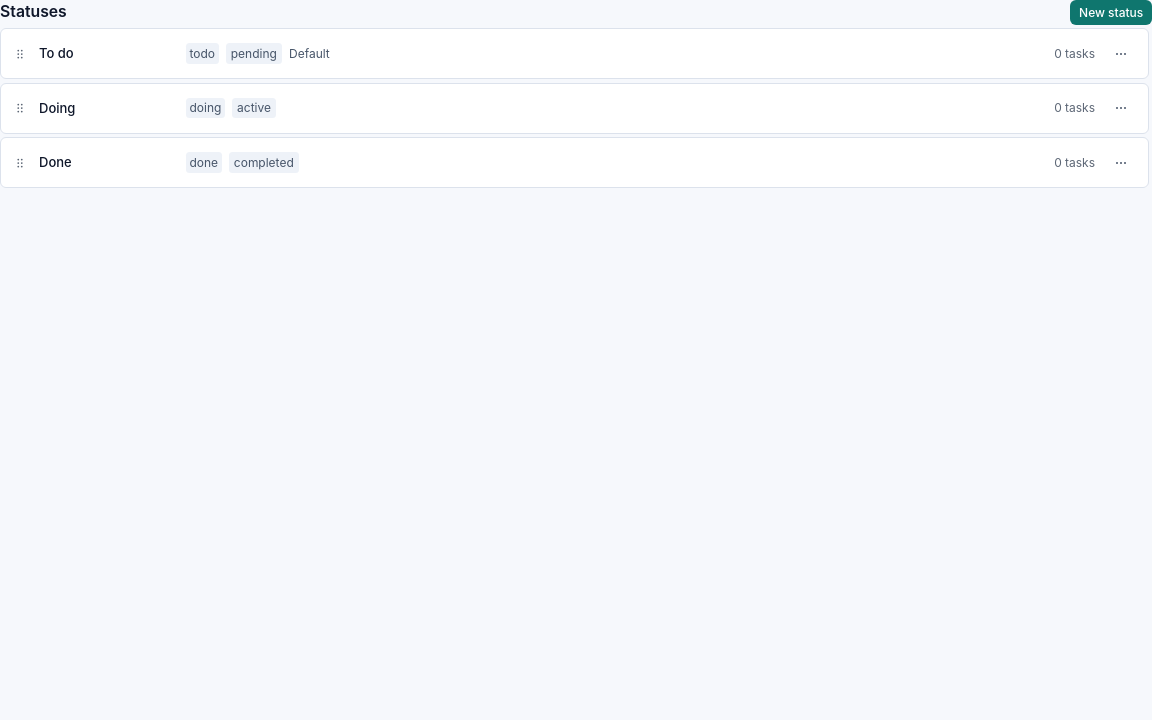
Test: EnumCollectionPanel — statuses (SET-46) › rejects a duplicate key before any PUT, naming the collision
Expected: the element with test id "statuses-list" is shown, [0,28,1151,188]
Step 1. Click the button with test id "statuses-create" → (1111, 12), box [1070,0,1151,24]
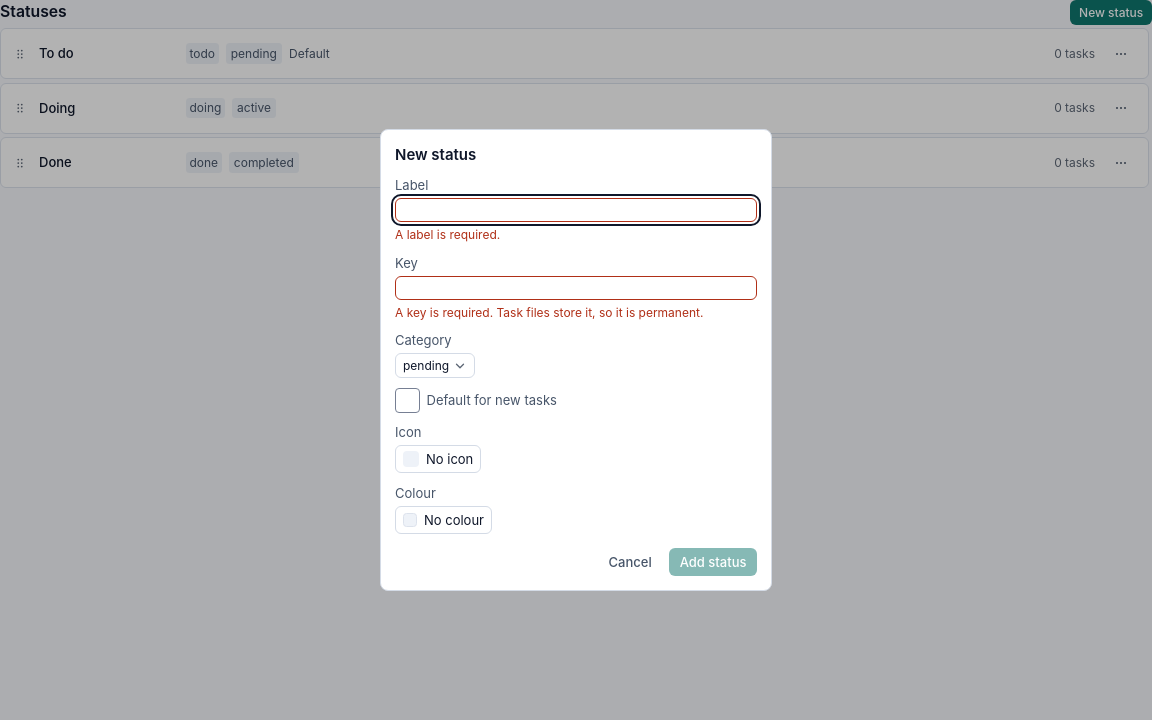
Step 2. Type "To do" into the field with test id "statuses-entry-label" → (576, 210), box [395,198,757,222]
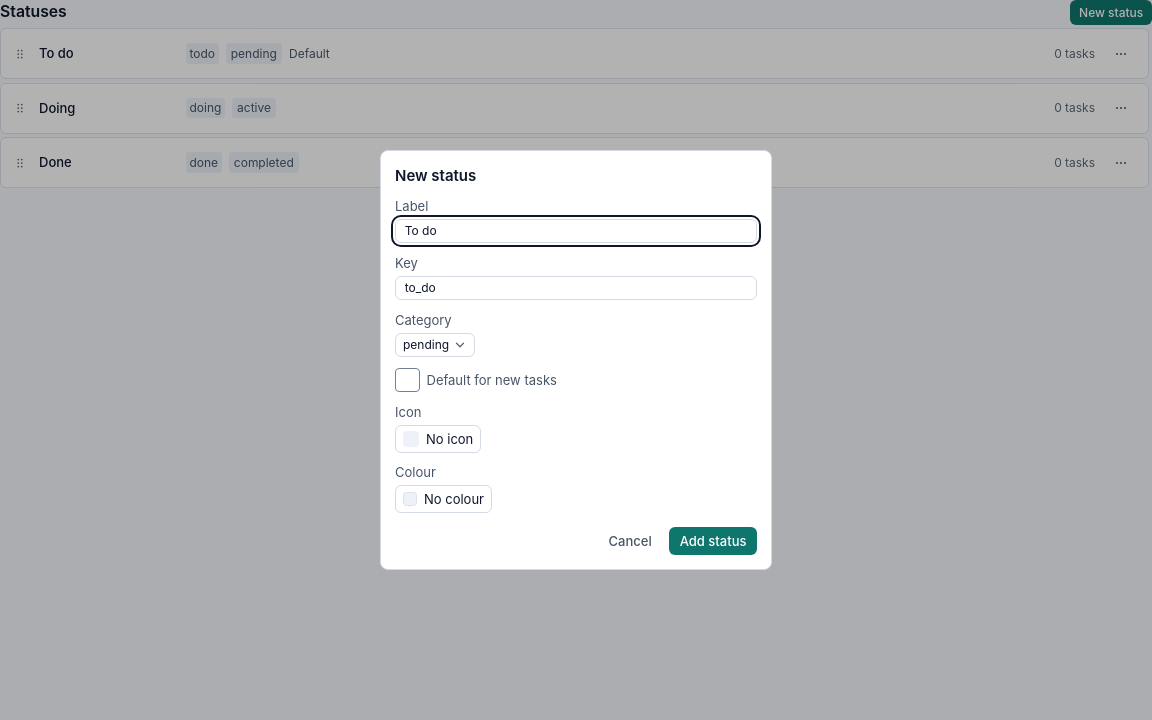
Step 3. Replace the text in the field with test id "statuses-entry-key" with "todo" → (576, 288), box [395,276,757,300]
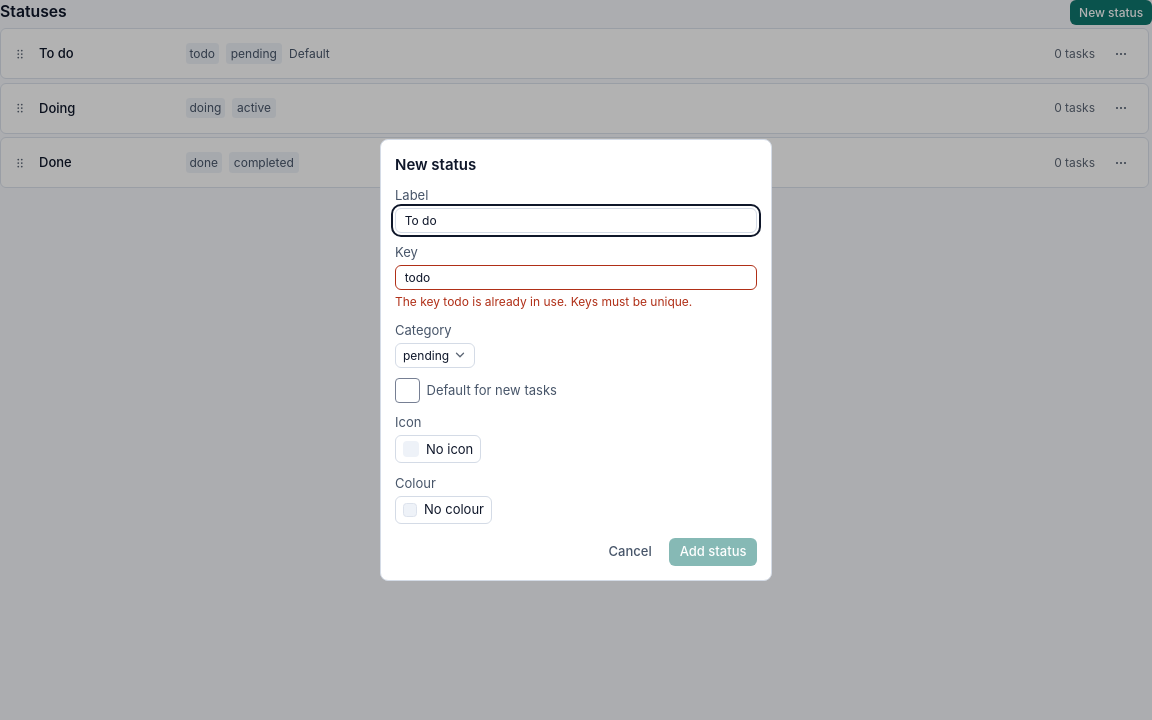
Result: the text with test id "statuses-entry-key-error" shows "todo" at [395,294,692,309]
Result: the button with test id "statuses-entry-save" is disabled at [669,538,757,566]
